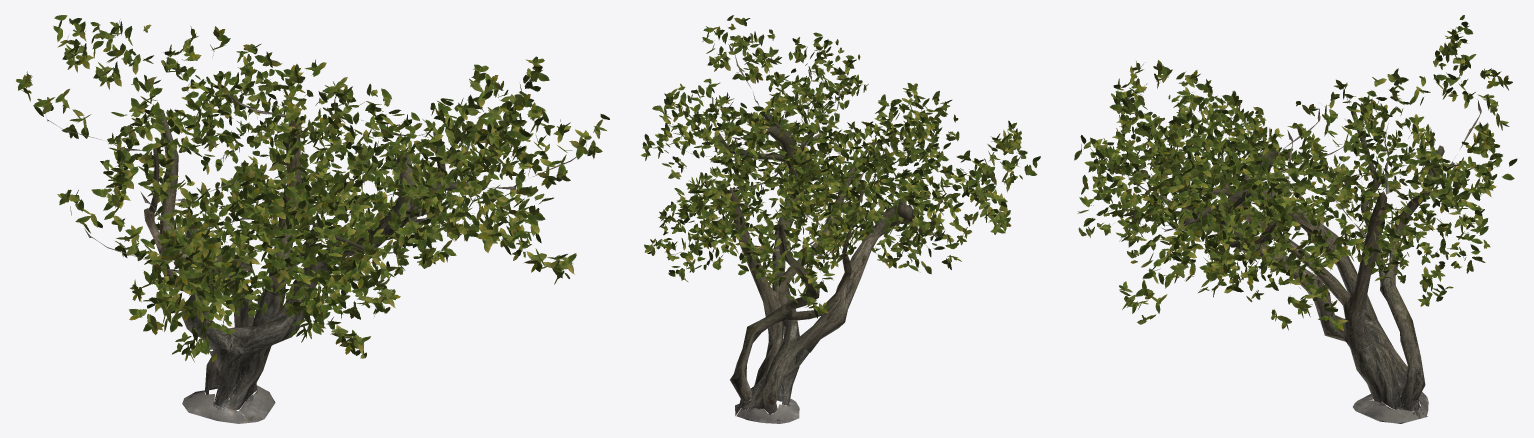
File: ph_island_tree_02_hi.glb
3 renders of one model, left to right at view 1: azimuth 30°, elevation 25°; view 2: azimuth 150°, elevation 25°; view 3: azimuth 270°, elevation 25°, orthographic. The views are drawn at different scales.
Parts seen in each view (by area): view 1: island_tree_02_LOD0; view 2: island_tree_02_LOD0; view 3: island_tree_02_LOD0.
Boxes of the visible parts, <box> form: island_tree_02_LOD0: <box>16,15,609,423</box>; island_tree_02_LOD0: <box>641,15,1040,423</box>; island_tree_02_LOD0: <box>1074,15,1517,423</box>.
Size of the model in its own units: 3.86 by 3.4 by 4.11.
3 materials, 3 textured.
